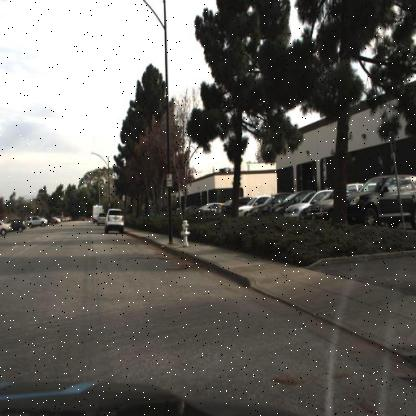car: (346, 179, 416, 229), (305, 181, 354, 221), (284, 184, 328, 218), (282, 190, 331, 219), (249, 192, 286, 218), (103, 206, 127, 235), (7, 216, 28, 238), (0, 217, 12, 241), (25, 214, 49, 226)
